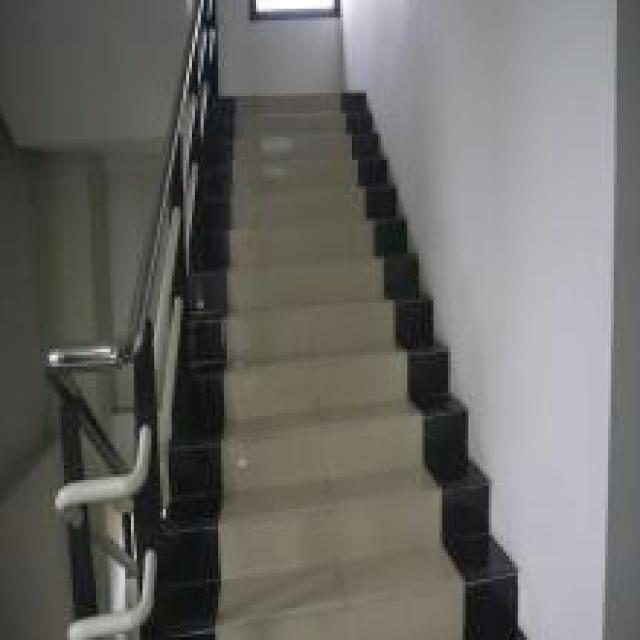upstair: (225, 85, 437, 640)
